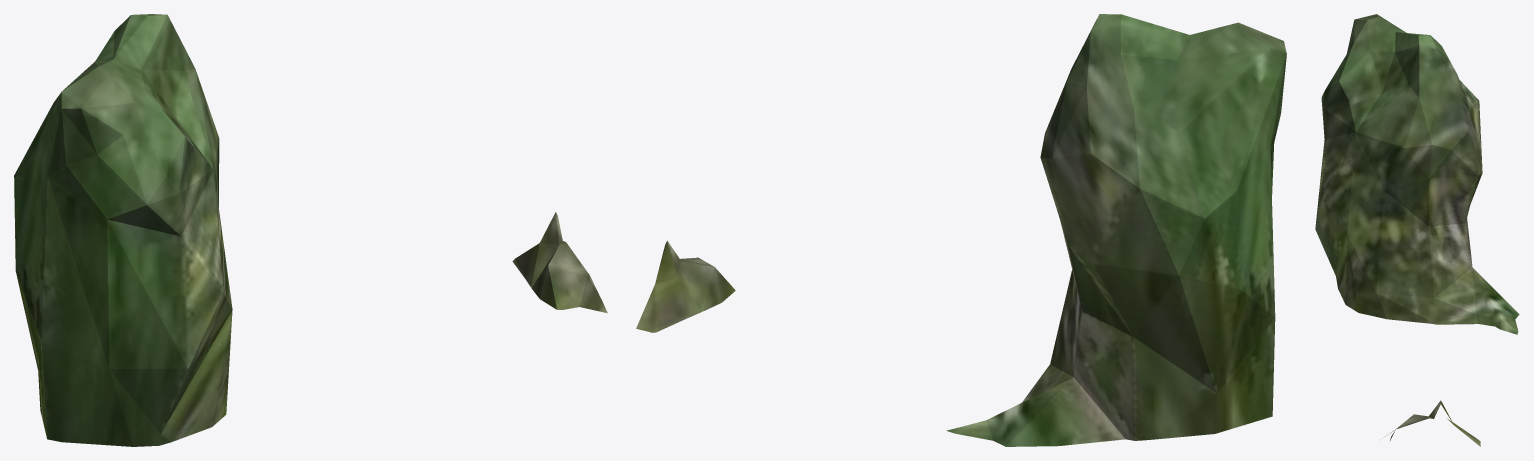
3 views of the same model, side by side, from view 1: azimuth 30°, elevation 25°; view 2: azimuth 150°, elevation 25°; view 3: azimuth 270°, elevation 25° (orthographic). The views are drawn at different scales.
Size of the model in its own units: 1.64 by 1.06 by 0.7436.
Materials: 1 (1 with a texture image).
